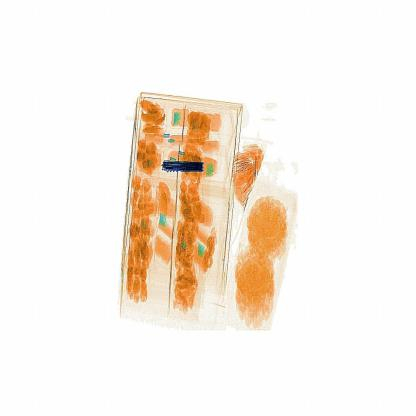scissors: (159, 150, 214, 180)
